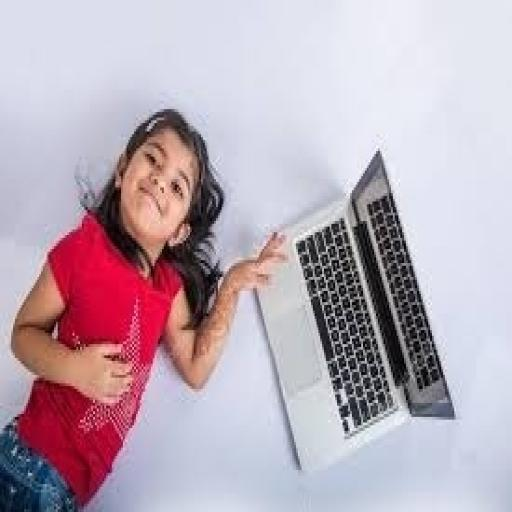using_laptop: (249, 143, 458, 473)
